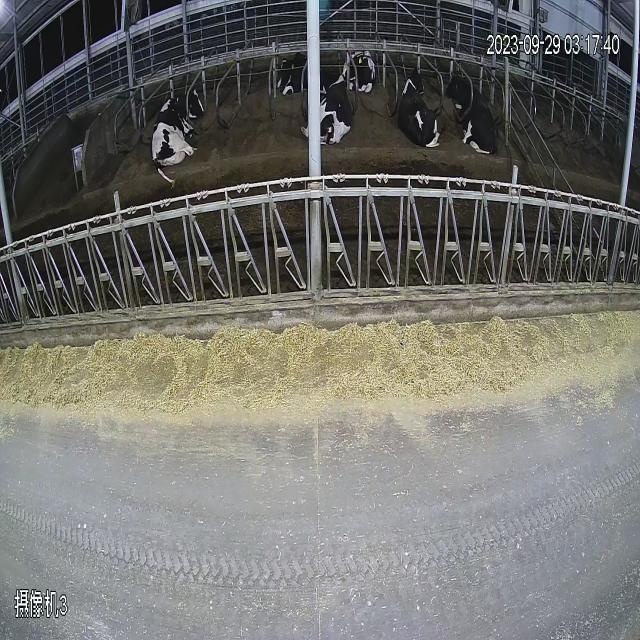lying down: (149, 69, 213, 186), (310, 58, 358, 164), (446, 58, 496, 154), (392, 58, 443, 150), (271, 42, 309, 104)
